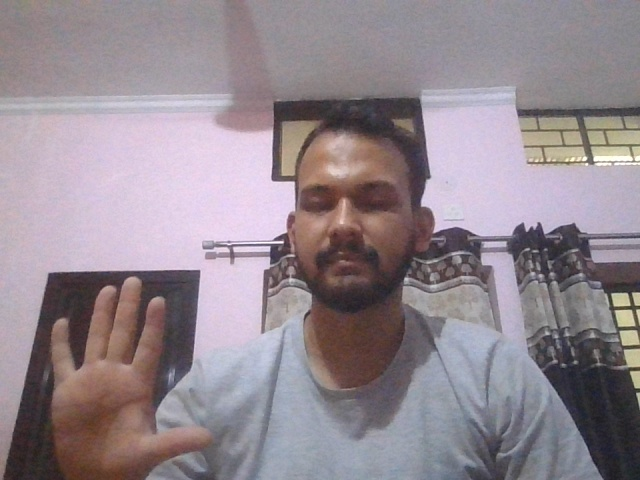hello: (46, 276, 213, 480)
